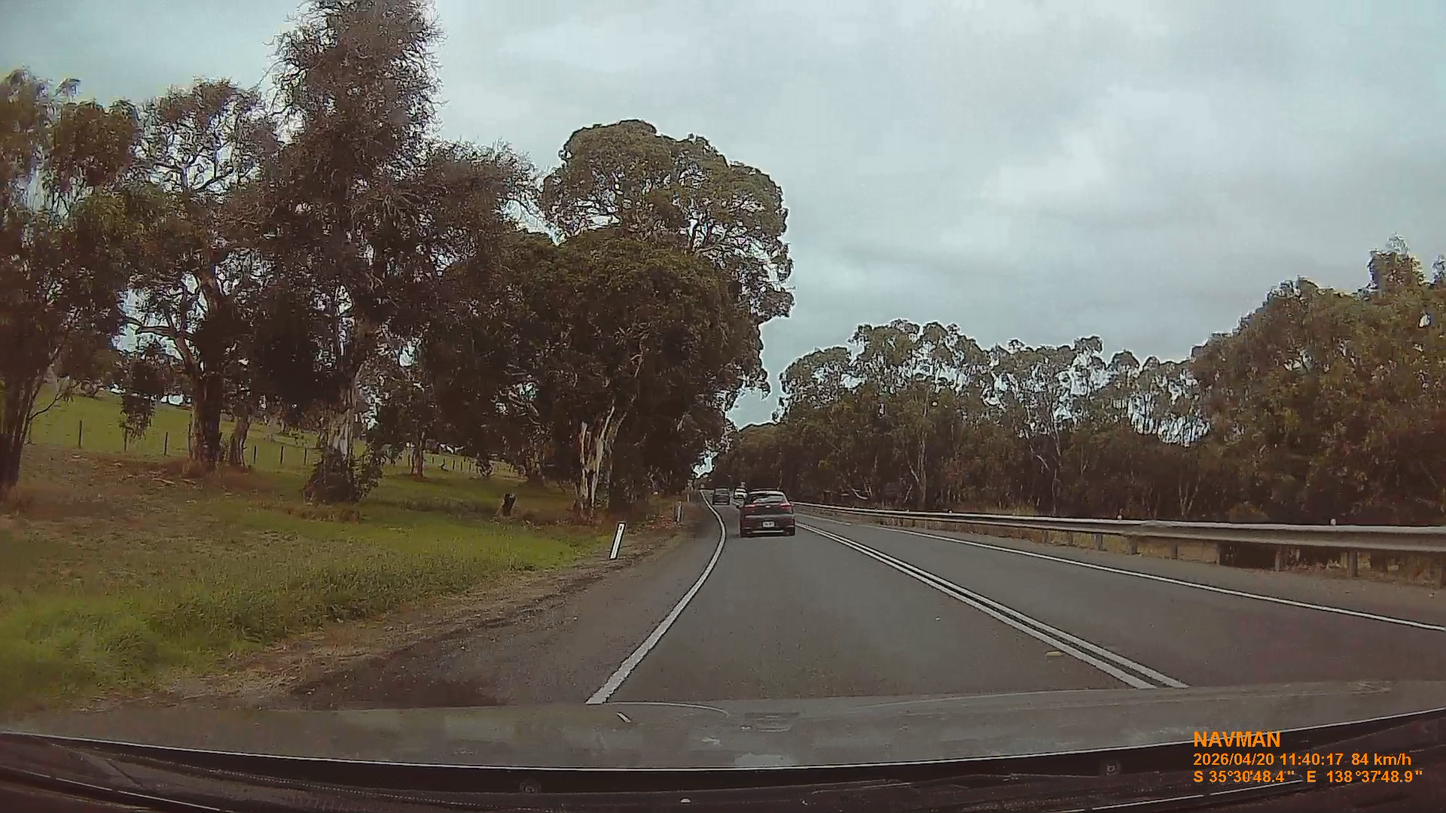road barriers: (857, 510, 1445, 553)
